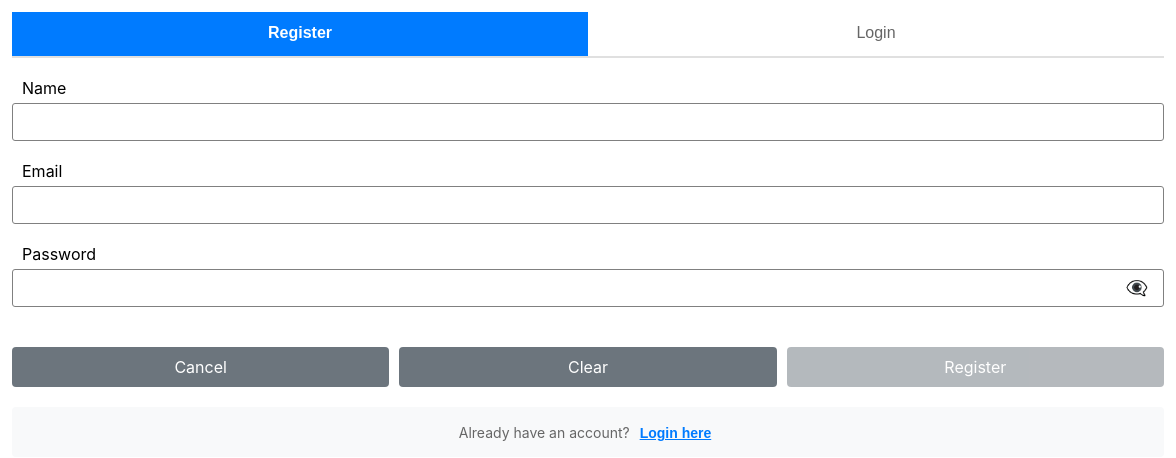
Test: LoginRegister › shows password validation error for weak password
Check: the 2nd button "Register" is disabled, box [787,347,1164,387]
Type "weak" into the password field labelled "Password" at [588, 288], box [12,269,1164,307]
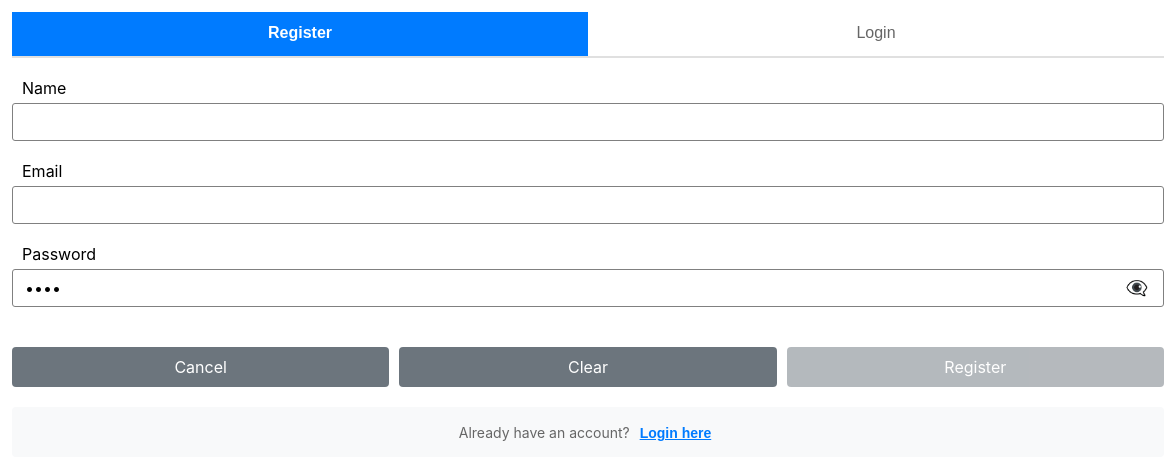
Check: the 2nd button "Register" is disabled, box [787,347,1164,387]
// Trigger blur to show validation error
Leave the password field labelled "Password", box [12,269,1164,307]
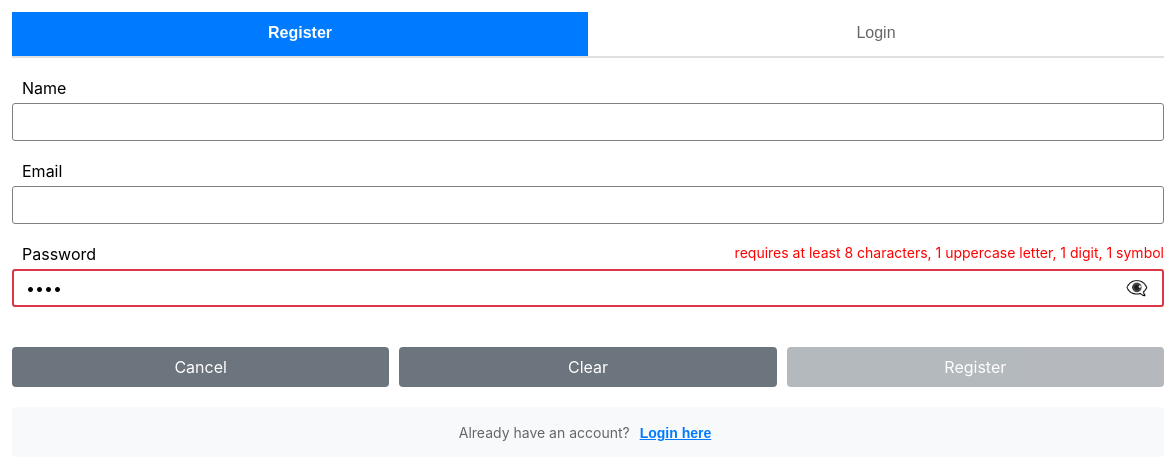
Check: the text "requires" shows "at least 8 characters", box [735,244,1164,261]
Check: the text "requires" shows "uppercase", box [735,244,1164,261]
Check: the text "requires" shows "digit", box [735,244,1164,261]
